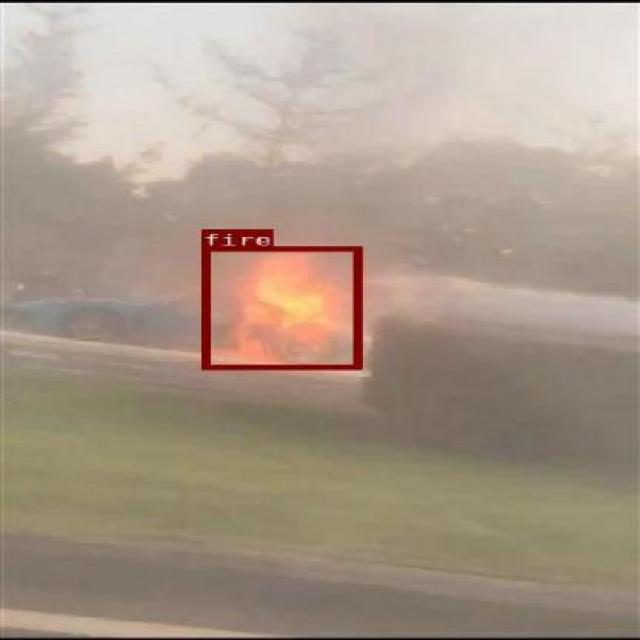Fire: (199, 246, 359, 368)
